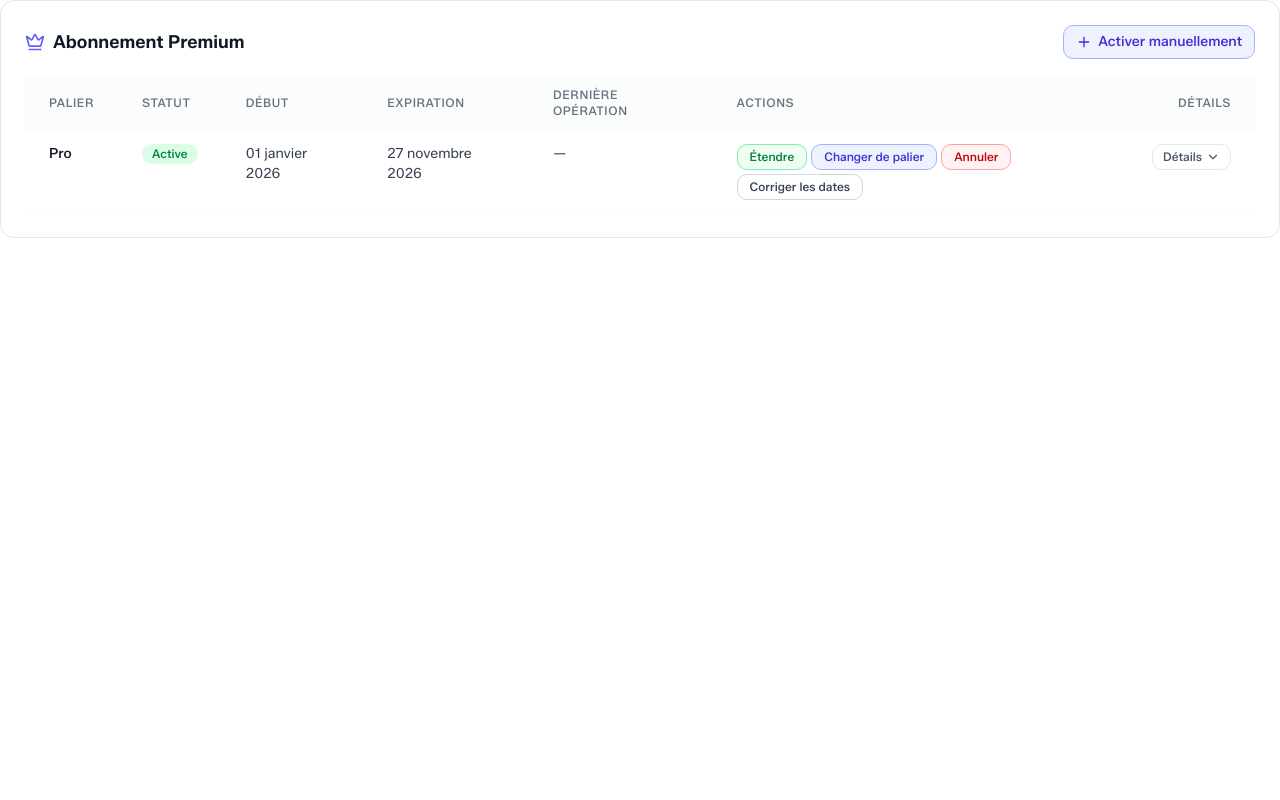
Test: AdminFaceSubscriptionSection — FP-2.10 tier selector + change-tier flow › change-tier modal › opens with the current tier shown as a readonly label
Click the button with test id "change-tier-button" at [874, 157], box top-left (811, 144), bottom-right (937, 170)
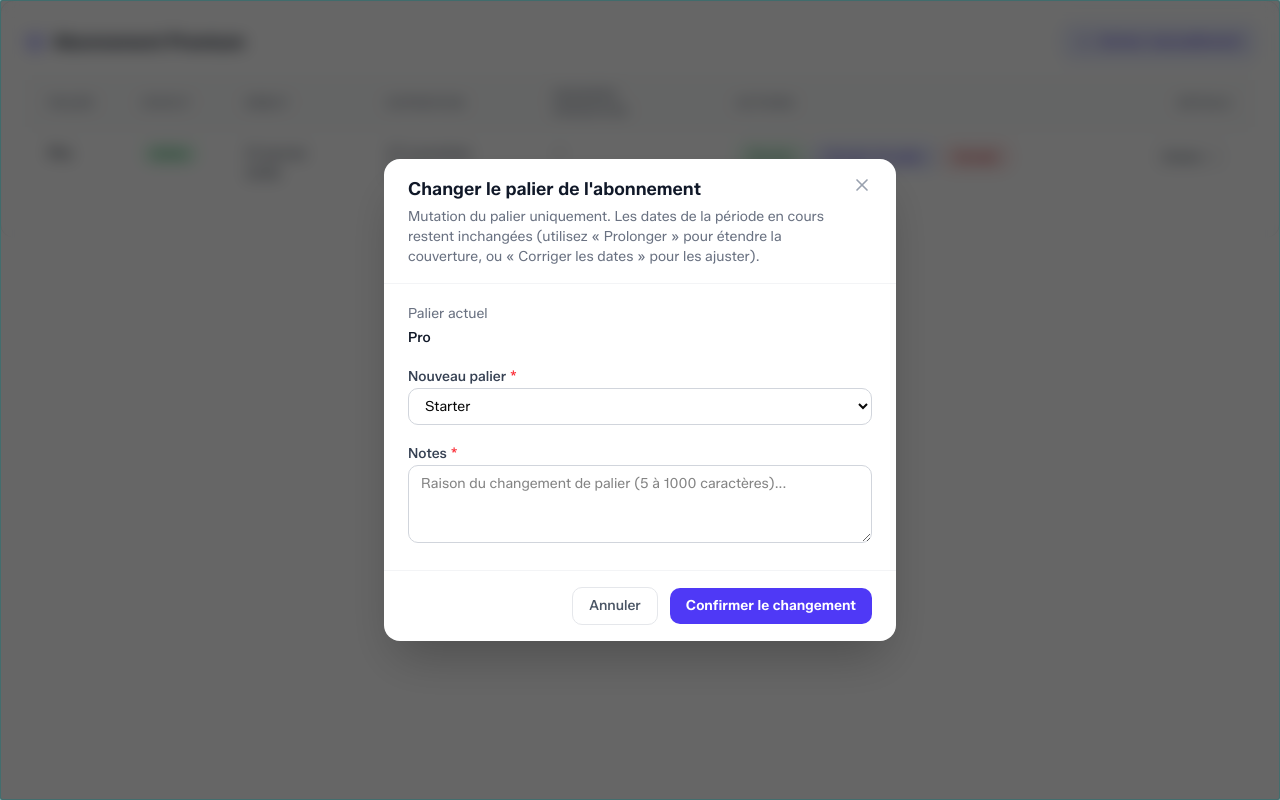
Expected: the text with test id "change-tier-current" reads "Pro", top-left (408, 329), bottom-right (431, 346)
